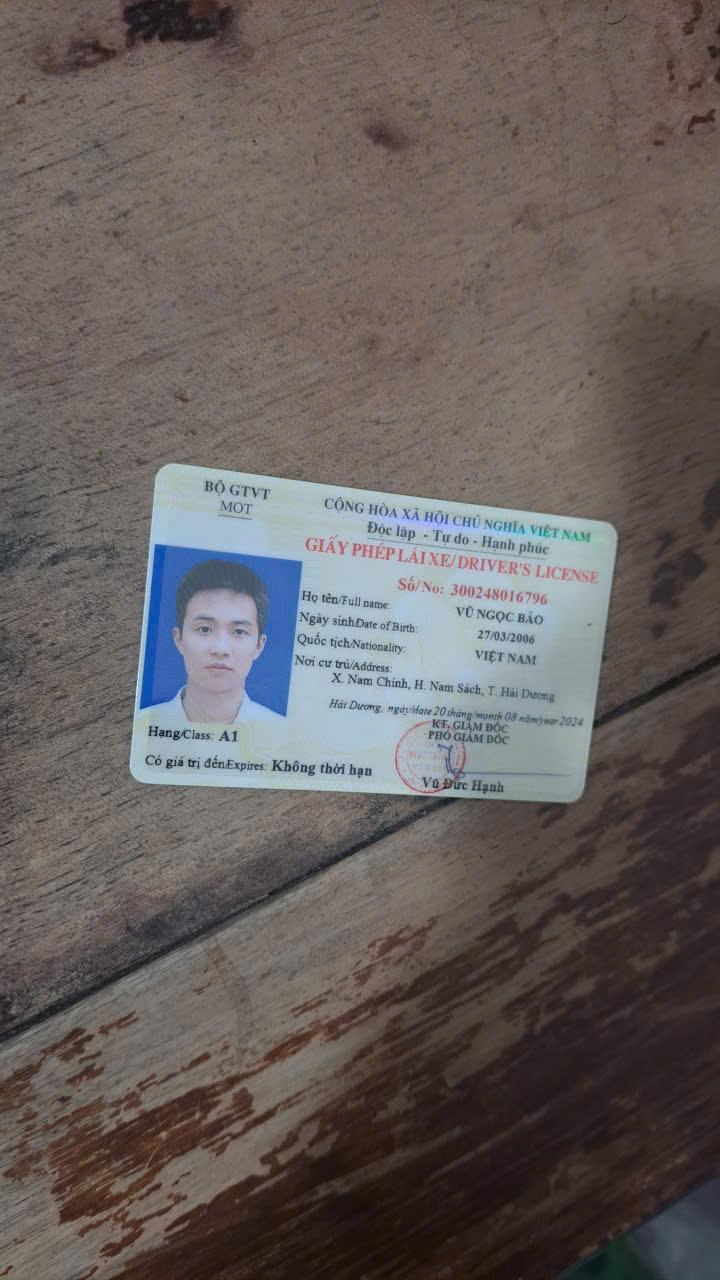gplx: (126, 457, 620, 810)
